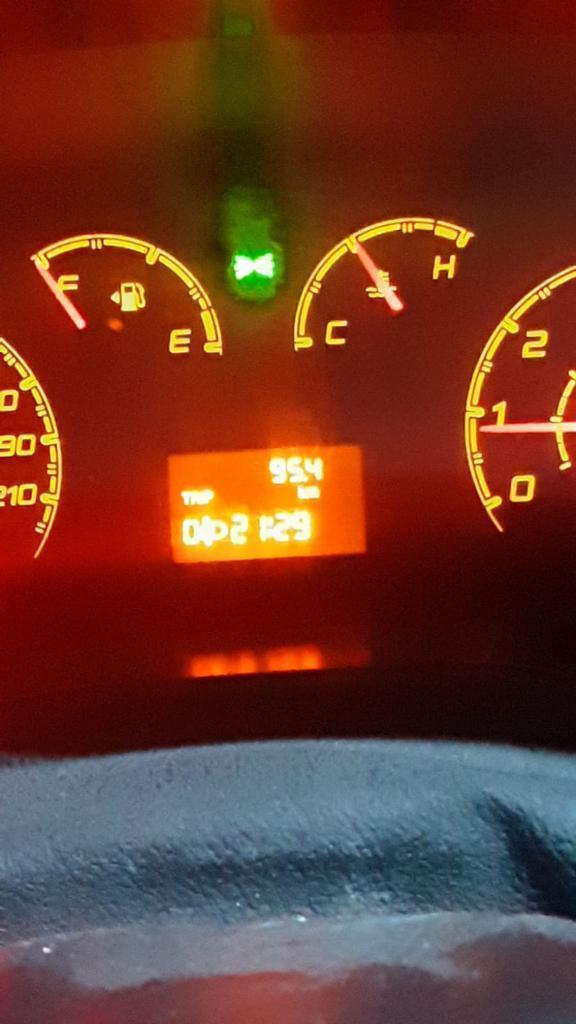,: (303, 474, 309, 482)
0: (181, 517, 199, 545)
1: (258, 513, 266, 544)
2: (229, 512, 247, 545), (274, 510, 291, 541)
4: (304, 455, 323, 480)
5: (287, 456, 304, 483)
9: (291, 510, 311, 540), (269, 457, 287, 484)
X: (306, 485, 321, 499), (190, 490, 201, 506), (266, 514, 273, 538), (180, 490, 190, 506), (206, 489, 215, 506), (296, 485, 305, 500), (201, 489, 206, 507)
odometer: (158, 440, 373, 570)
